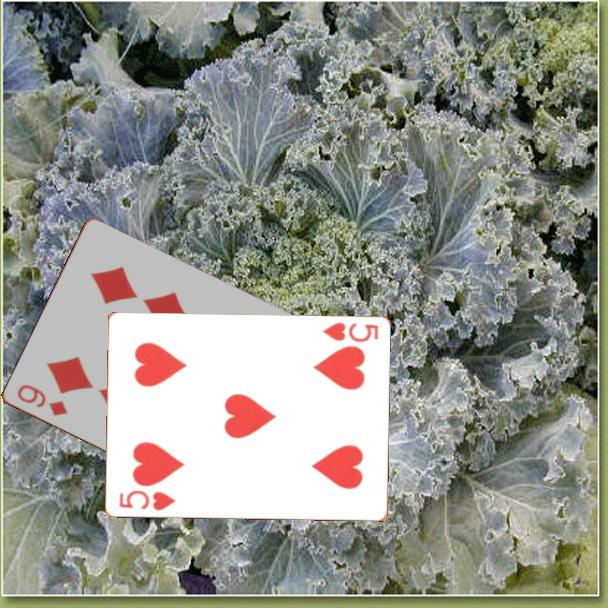d09: (13, 381, 70, 419)
h05: (115, 487, 178, 514), (319, 319, 381, 345)
